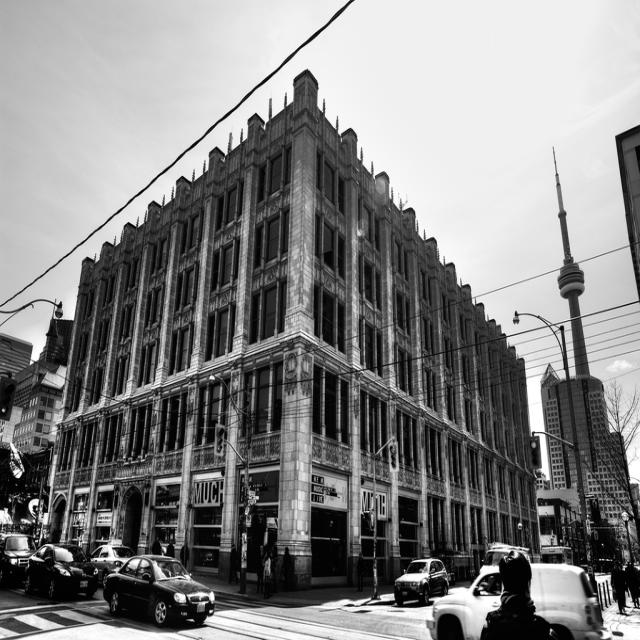car: (99, 548, 215, 629), (395, 555, 452, 605)
